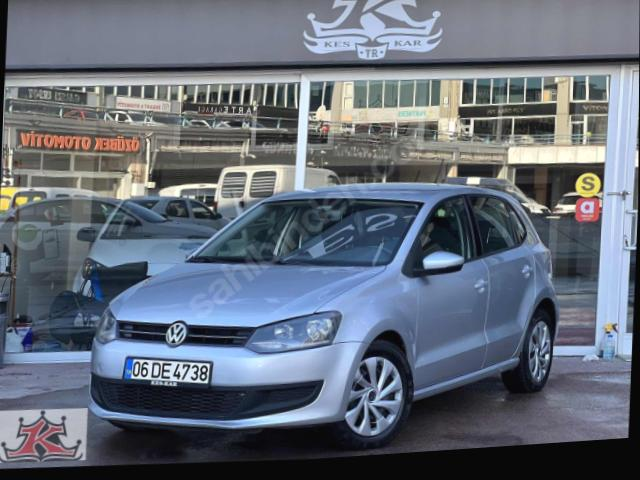plaka: (124, 358, 212, 384)
